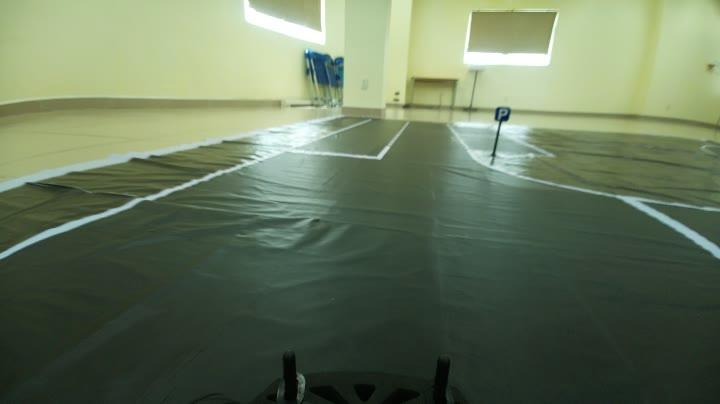parking: (492, 102, 511, 127)
